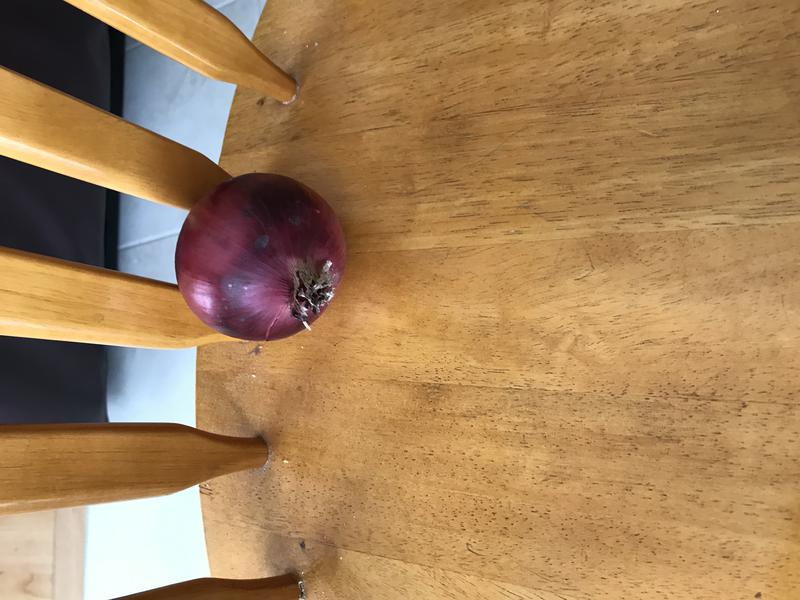purple_onion: (167, 166, 351, 347)
